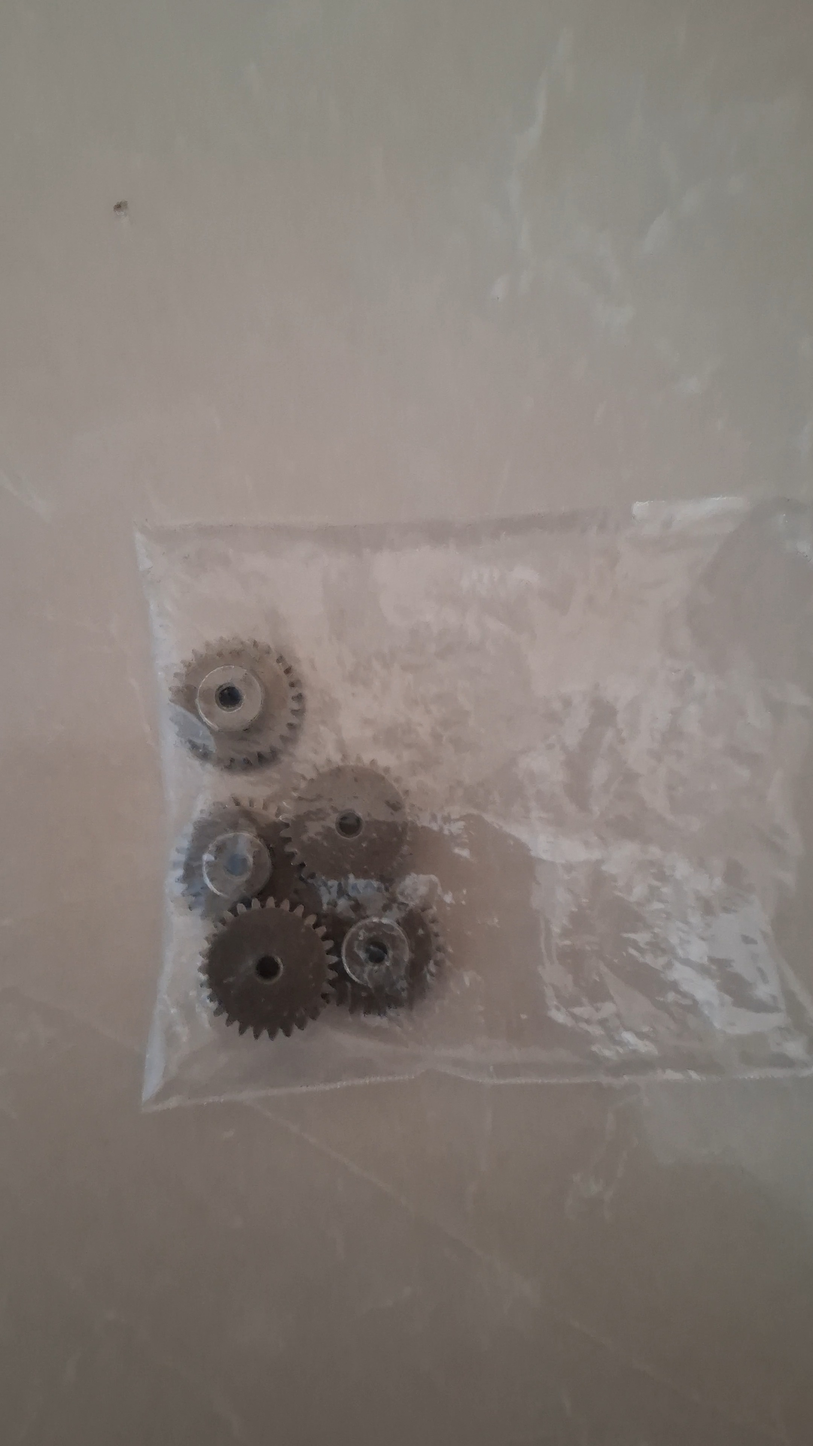spur gear: (200, 899, 336, 1038), (171, 640, 304, 768), (286, 764, 407, 880), (176, 799, 289, 918), (328, 899, 443, 1014)
